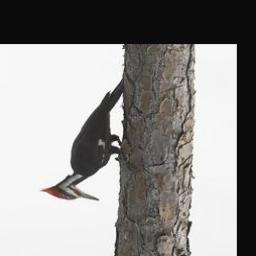Woodpecker: (38, 77, 123, 201)
